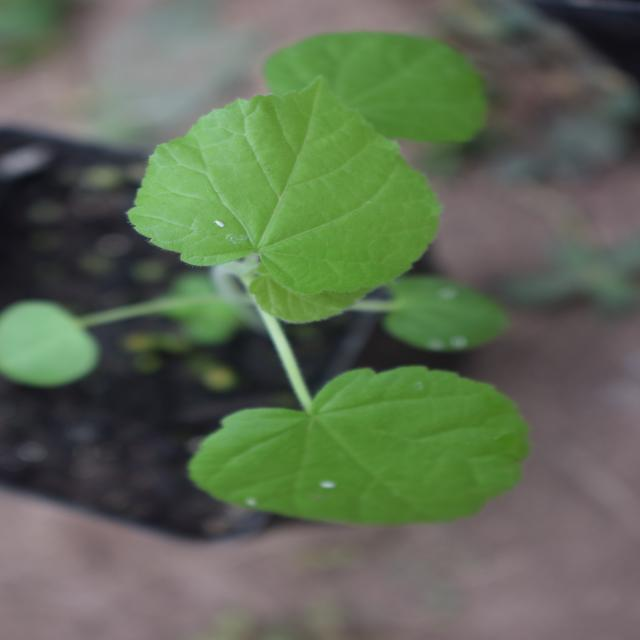abutilon theophrasti: (111, 136, 580, 550)
